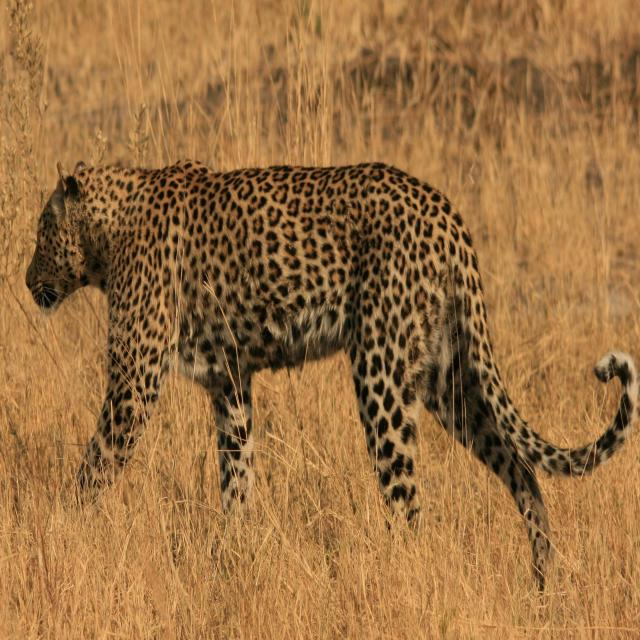Leopard: (21, 158, 634, 590)
